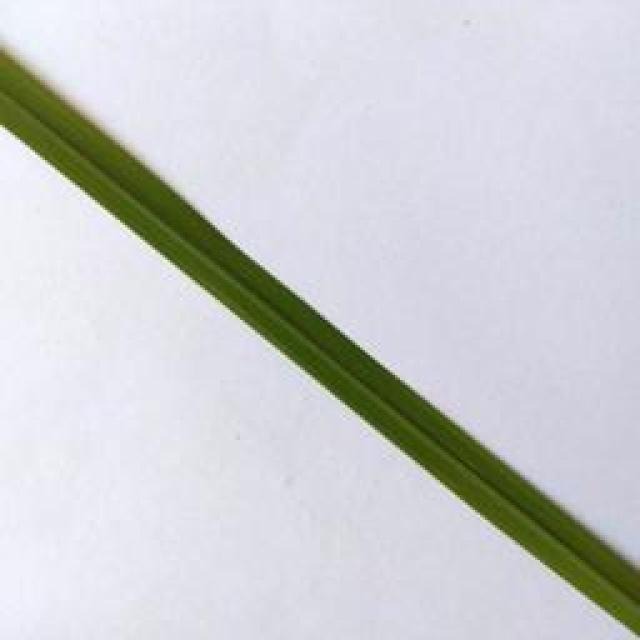Healthy-Plant: (0, 55, 640, 634)
